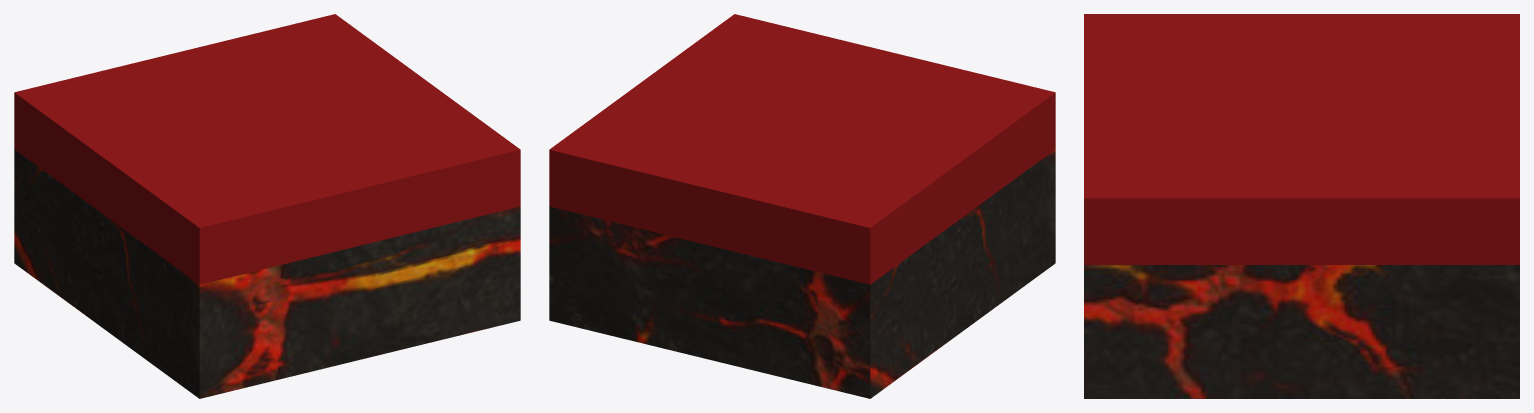
File: red tile.fbx
The picture shows the model from 3 angles, left to right: view 1: azimuth 30°, elevation 25°; view 2: azimuth 150°, elevation 25°; view 3: azimuth 270°, elevation 25°; orthographic projection. The views are drawn at different scales.
Parts seen in each view (by area): view 1: pCube1; view 2: pCube1; view 3: pCube1.
Boxes of the visible parts, box(x1,y1,x2,y2) form: pCube1: box(14, 14, 520, 398); pCube1: box(549, 14, 1055, 398); pCube1: box(1084, 14, 1519, 398).
Size of the model in its own units: 1 by 0.5085 by 1.
